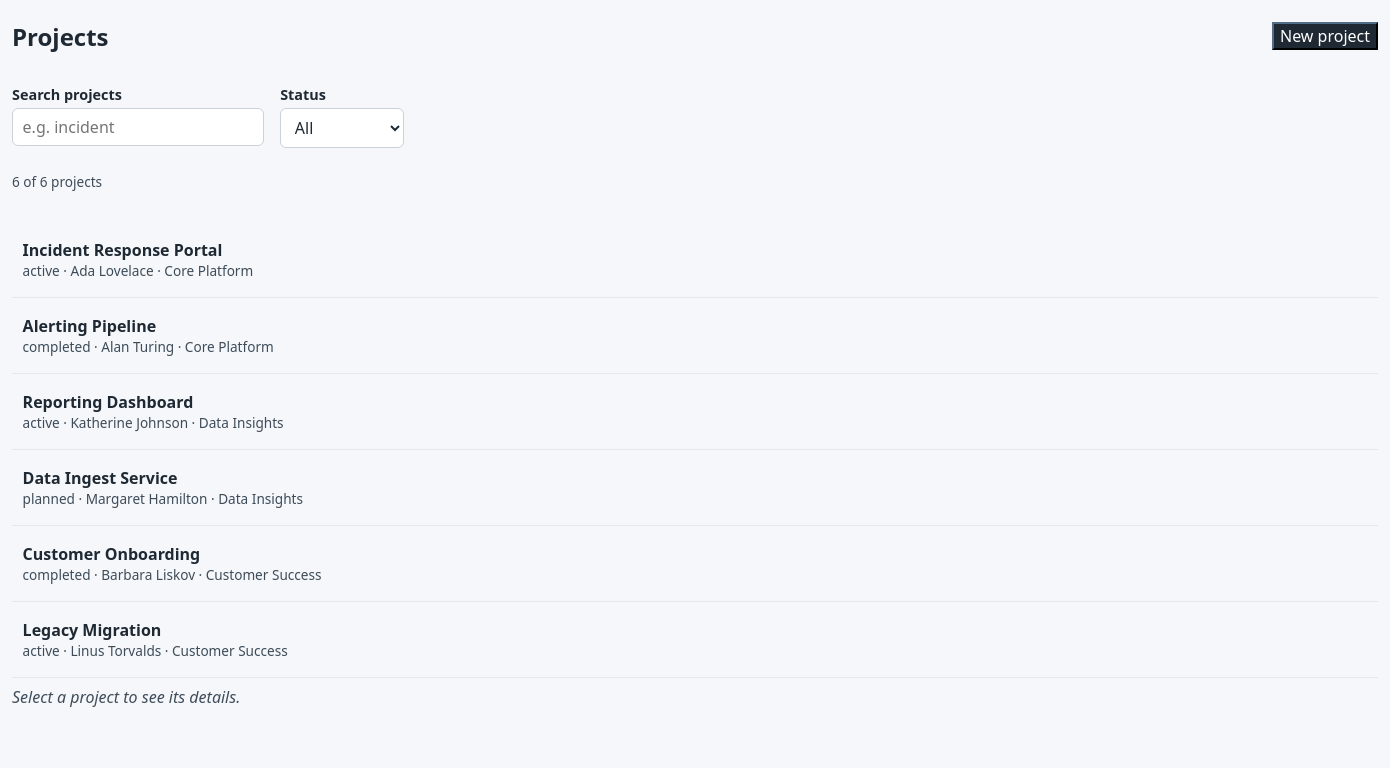
ProjectsComponent › searches by name, case-insensitive, live (PRJ-SEARCH)
Type "incident" into the search field labelled "Search projects" at {"x": 138, "y": 127}, box x1=12 y1=108 x2=264 y2=146
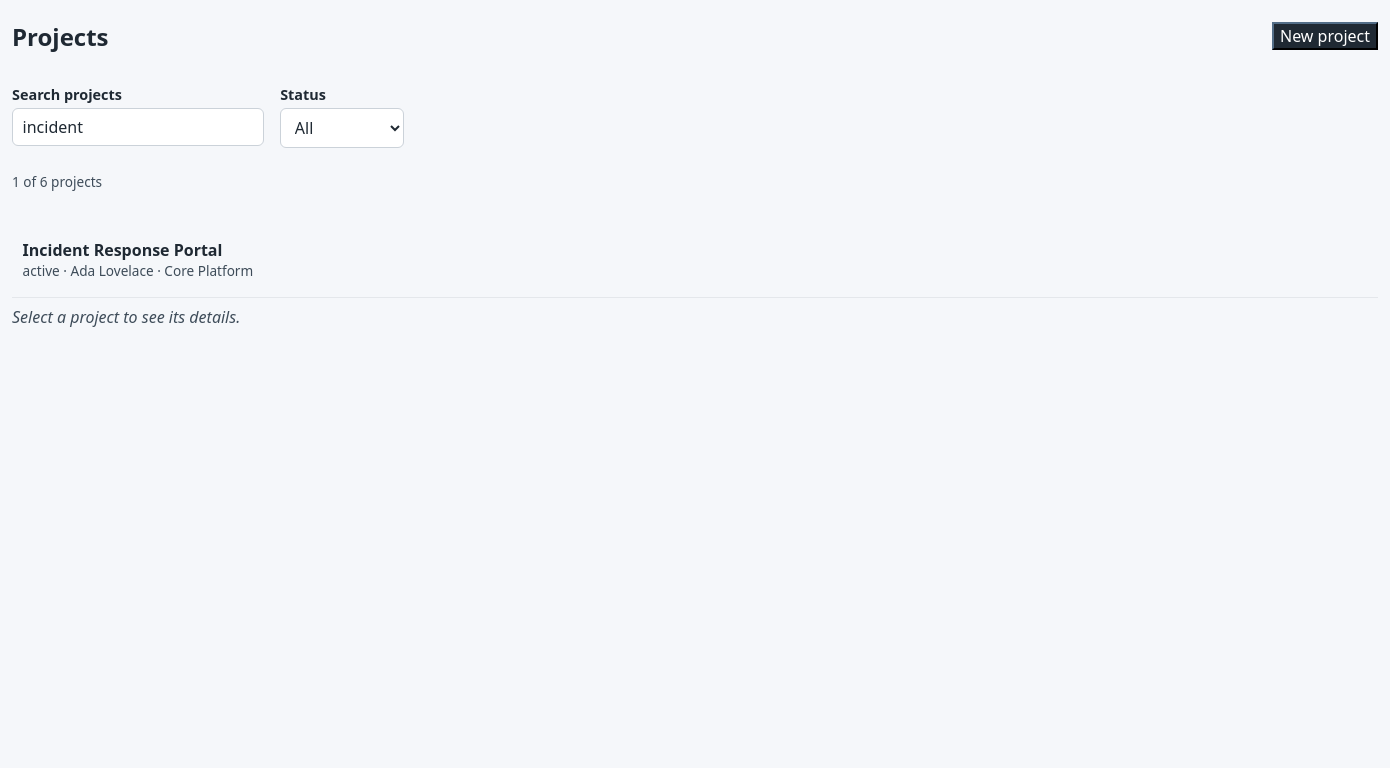
Expected: the text "Incident Response Portal" is shown, x1=23 y1=239 x2=222 y2=261
Result: the text "Alerting Pipeline" is gone
Replace the text in the search field labelled "Search projects" with "REPORT" at {"x": 138, "y": 127}, box x1=12 y1=108 x2=264 y2=146
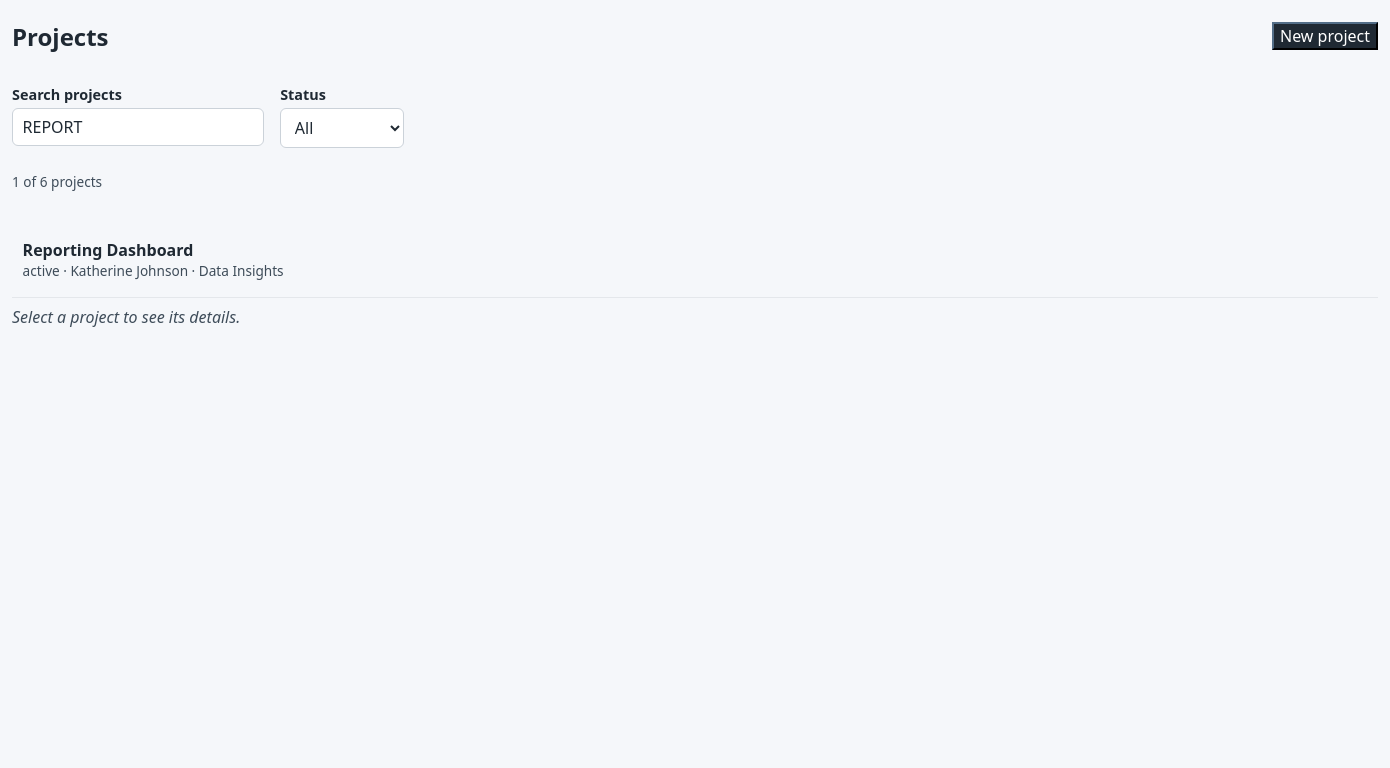
Result: the text "Reporting Dashboard" is shown at x1=23 y1=239 x2=193 y2=261
Result: the text "Incident Response Portal" is gone
